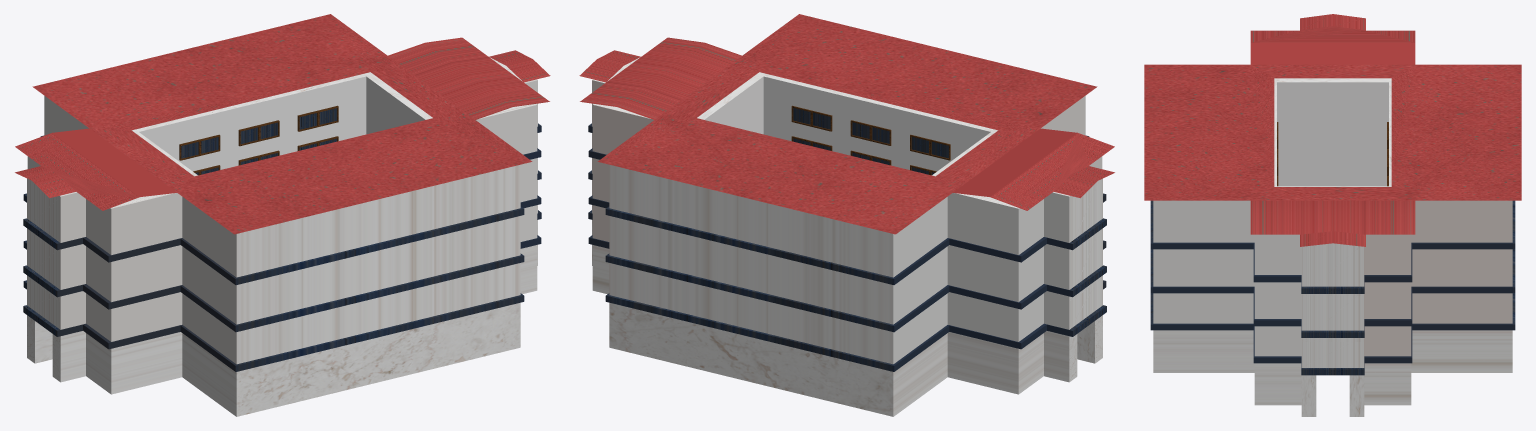
File: bloque2Fbx.fbx
3 renders of one model, left to right at view 1: azimuth 30°, elevation 25°; view 2: azimuth 150°, elevation 25°; view 3: azimuth 270°, elevation 25°, orthographic. The views are drawn at different scales.
Parts seen in each view (by area): view 1: Bloque, Techo, VisualExterior, Vidrio, Marco; view 2: Bloque, Techo, VisualExterior, Vidrio, Marco; view 3: Bloque, Techo, VisualExterior.
Boxes of the visible parts, x1,y1,x2,y2 form: Bloque: [27, 58, 537, 416]; Techo: [15, 14, 550, 234]; VisualExterior: [23, 123, 541, 371]; Vidrio: [181, 108, 336, 175]; Marco: [179, 105, 338, 175]; Bloque: [592, 58, 1102, 416]; Techo: [579, 14, 1114, 234]; VisualExterior: [588, 123, 1106, 371]; Vidrio: [793, 108, 948, 174]; Marco: [791, 105, 950, 175]; Bloque: [1153, 78, 1512, 416]; Techo: [1144, 14, 1521, 246]; VisualExterior: [1150, 200, 1515, 375].
Size of the model in its own units: 13548 by 4971 by 9450.
5 materials, 5 textured.
